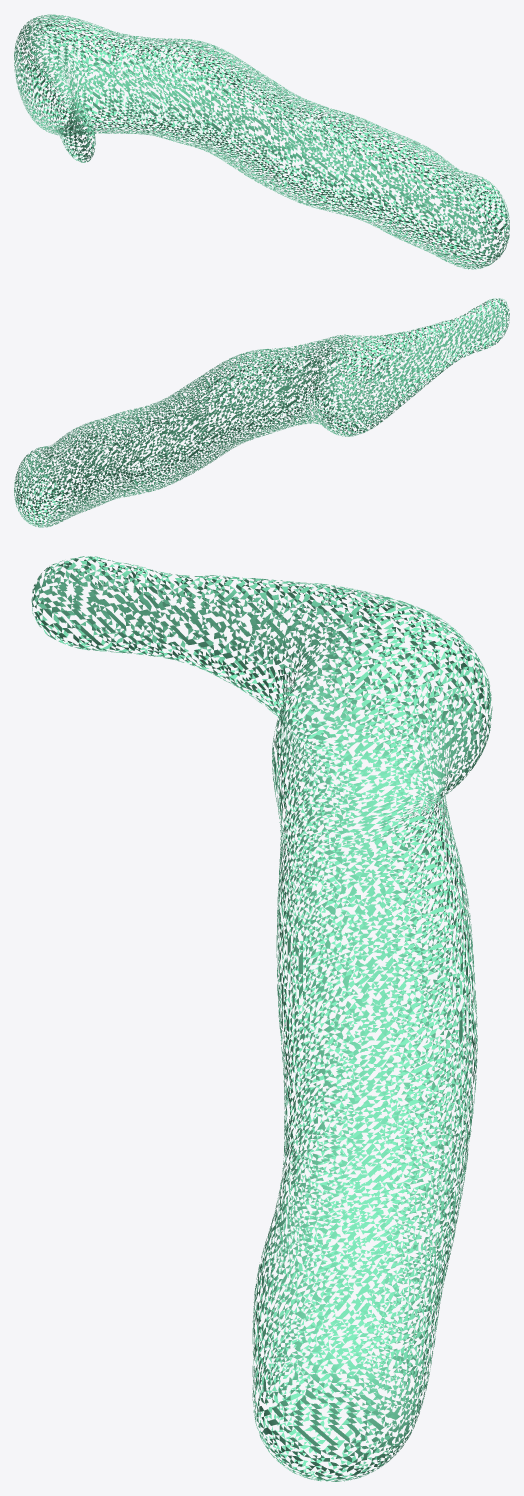
File: healthy.glb
3 views of the same model, one above another, from view 1: azimuth 30°, elevation 25°; view 2: azimuth 150°, elevation 25°; view 3: azimuth 270°, elevation 25° (orthographic). The views are drawn at different scales.
Bounding box in the file's own units: 116 × 72.89 × 55.5.
